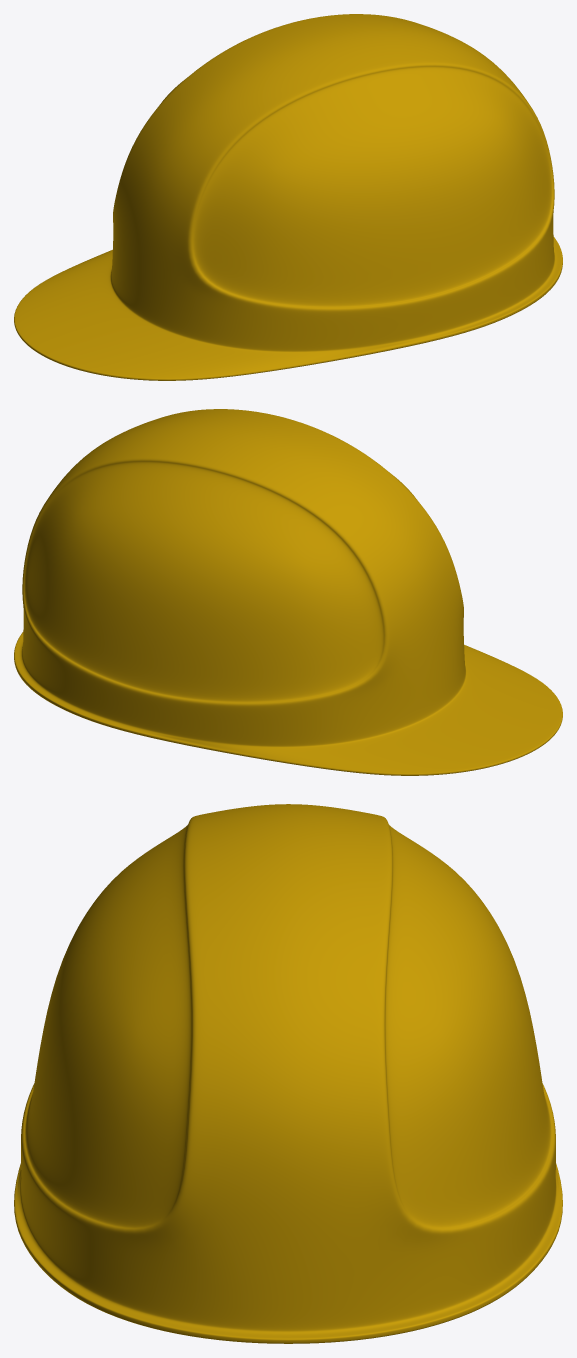
File: HatFBX.fbx
3 renders of one model, top to bottom at view 1: azimuth 30°, elevation 25°; view 2: azimuth 150°, elevation 25°; view 3: azimuth 270°, elevation 25°, orthographic. The views are drawn at different scales.
Visible parts, largest first — view 1: ConstructionHat001; view 2: ConstructionHat001; view 3: ConstructionHat001.
Boxes of the visible parts, bbox=[...] form: ConstructionHat001: bbox=[14, 14, 562, 380]; ConstructionHat001: bbox=[14, 409, 562, 775]; ConstructionHat001: bbox=[14, 804, 562, 1343].
Size of the model in its own units: 40.71 by 18.4 by 25.99.
